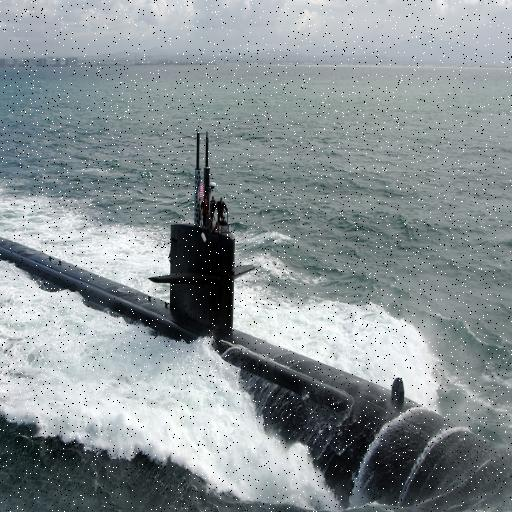submarine: (1, 125, 512, 512)
